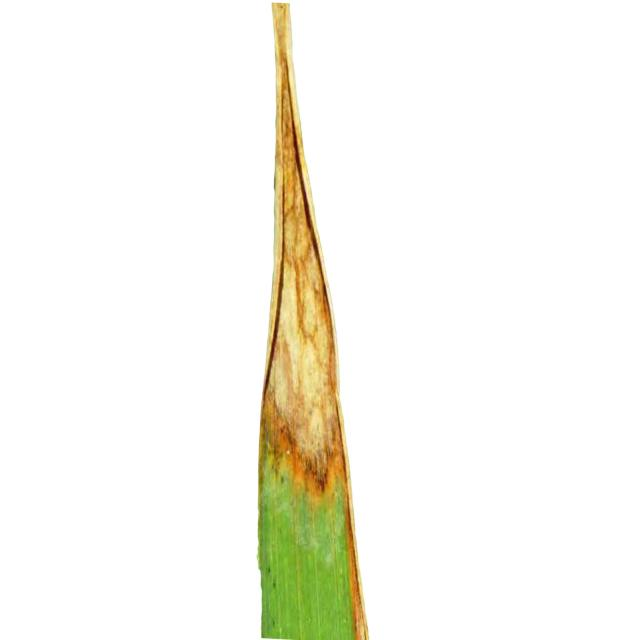Leaf scald: (198, 2, 458, 640)
